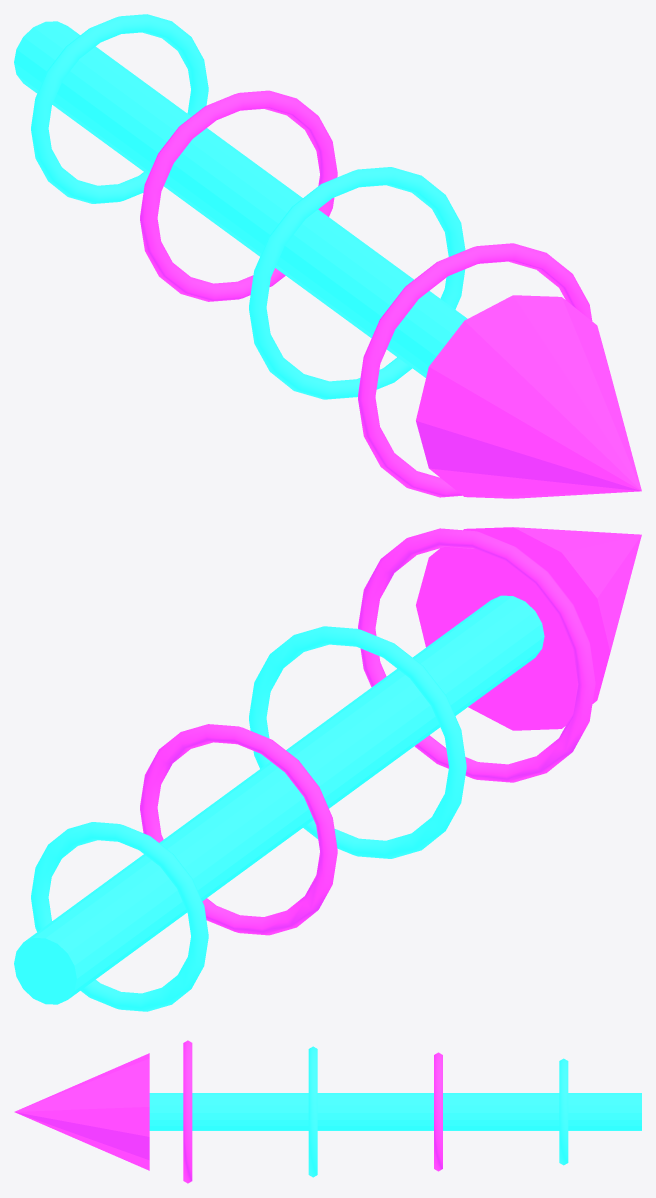
Rendered from matron_soul_lance.glb.
3 renders of one model, top to bottom at view 1: azimuth 30°, elevation 25°; view 2: azimuth 150°, elevation 25°; view 3: azimuth 270°, elevation 25°, orthographic. The views are drawn at different scales.
Parts seen in each view (by area): view 1: matron soul lance core; view 2: matron soul lance core; view 3: matron soul lance core.
Boxes of the visible parts, <box> form: matron soul lance core: <box>14,14,641,498</box>; matron soul lance core: <box>14,527,641,1011</box>; matron soul lance core: <box>14,1040,641,1183</box>.
Bounding box in the file's own units: 0.83 × 0.83 × 3.61.
